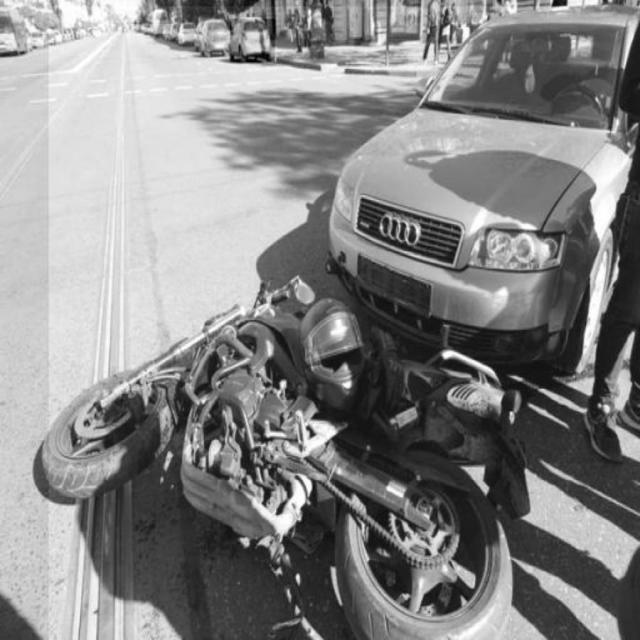accident: (49, 6, 640, 640)
vehicle: (230, 19, 275, 63)
